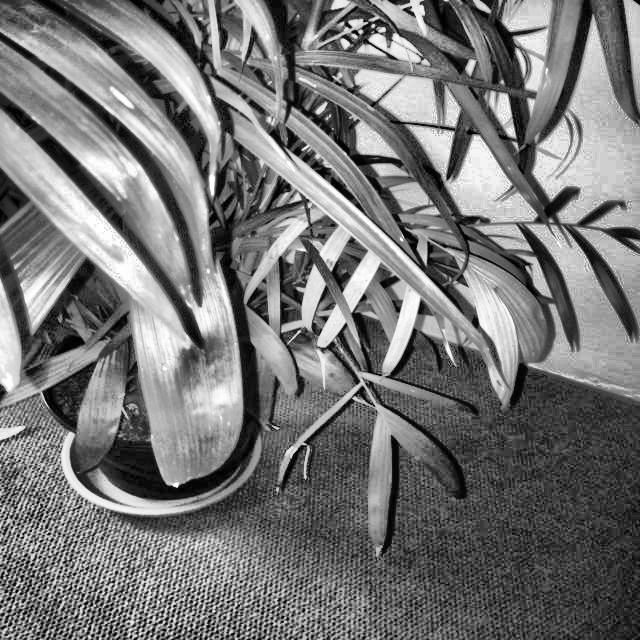plants: (0, 0, 640, 564), (264, 178, 562, 390), (267, 402, 513, 562)
